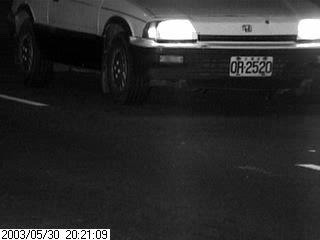plate: (228, 53, 274, 78)
